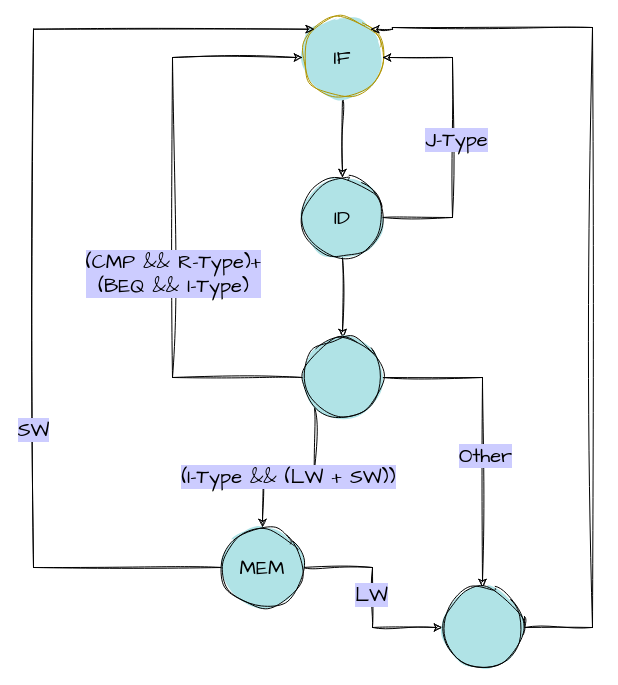
The diagram is 618 pixels wide and 685 high, and some of its shapes have lost their labels. Here are the shapes that lost their labels. From the top down, the centre of each, then its label:
At point 342,377: "EX".
At point 482,627: "WB".
